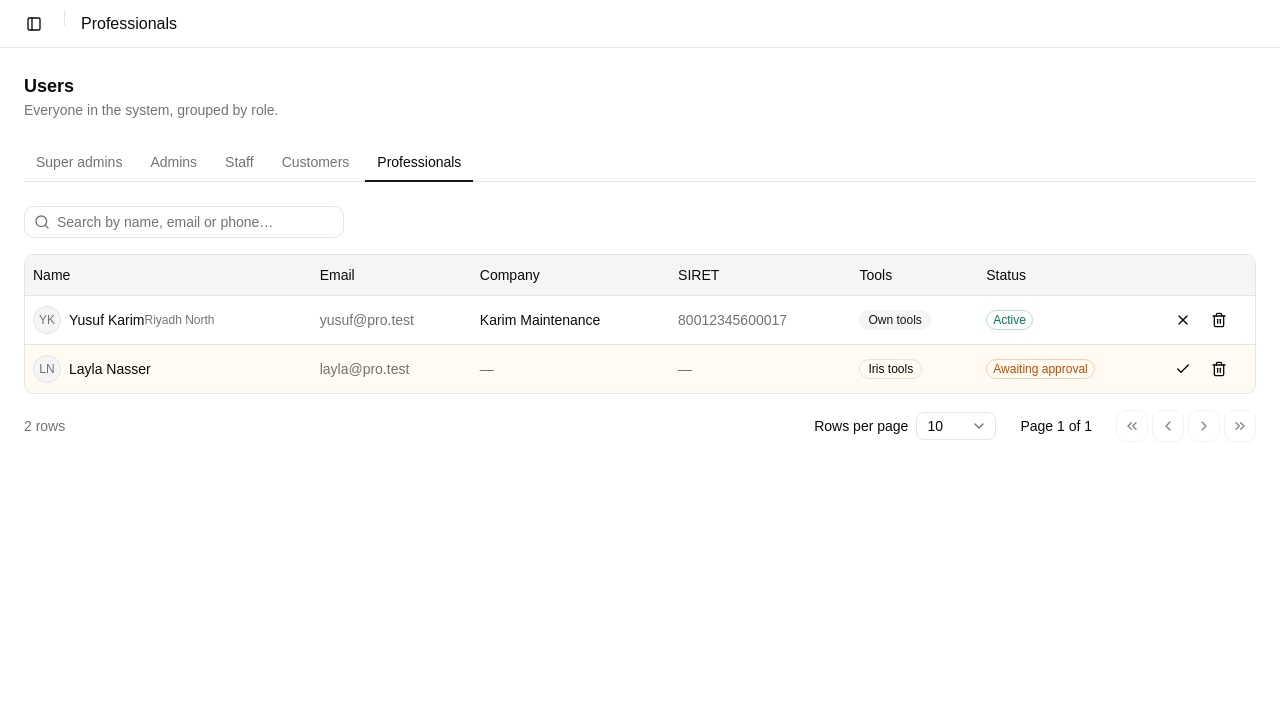
professional approval › approves a professional awaiting approval
expect the text "Layla Nasser" is shown: met, box [33, 354, 151, 382]
expect the text "Awaiting approval" is shown: met, box [986, 359, 1095, 379]
Click the button named "approve layla" at (1183, 368), box [1167, 352, 1199, 384]
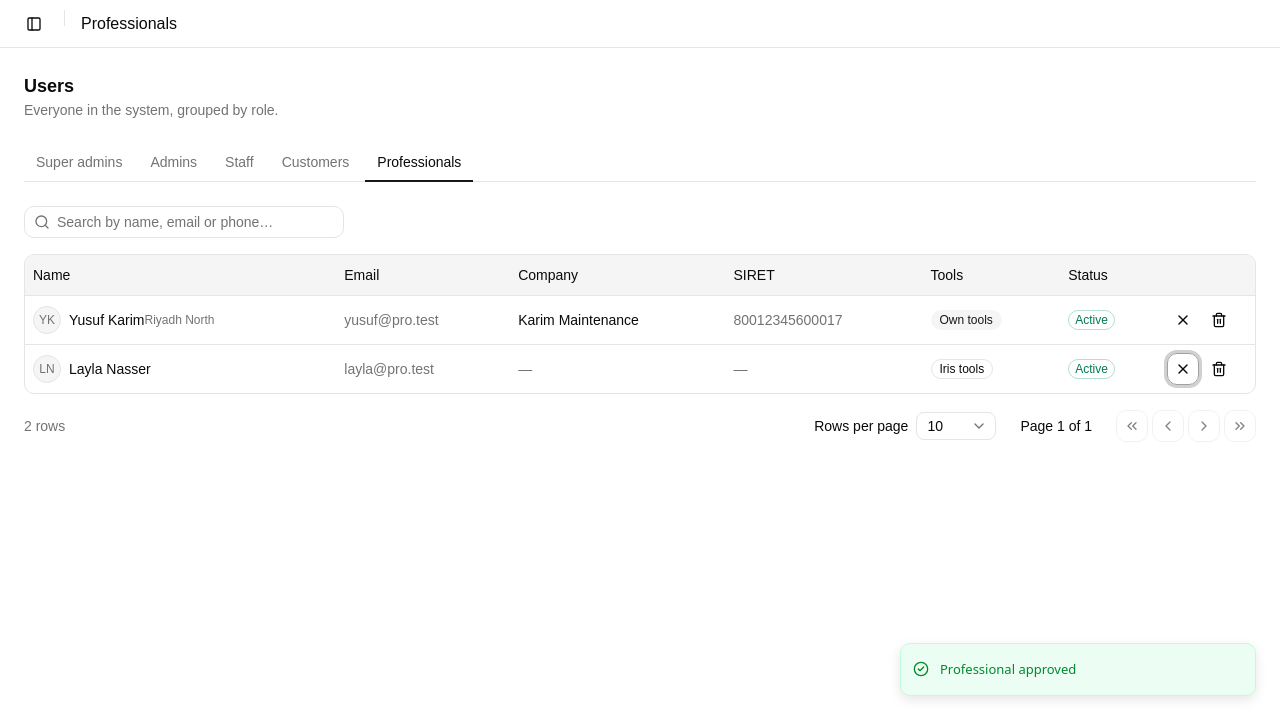
expect the icon "Active" in the row of "layla@pro.test" is shown: met, box [1075, 362, 1108, 376]
